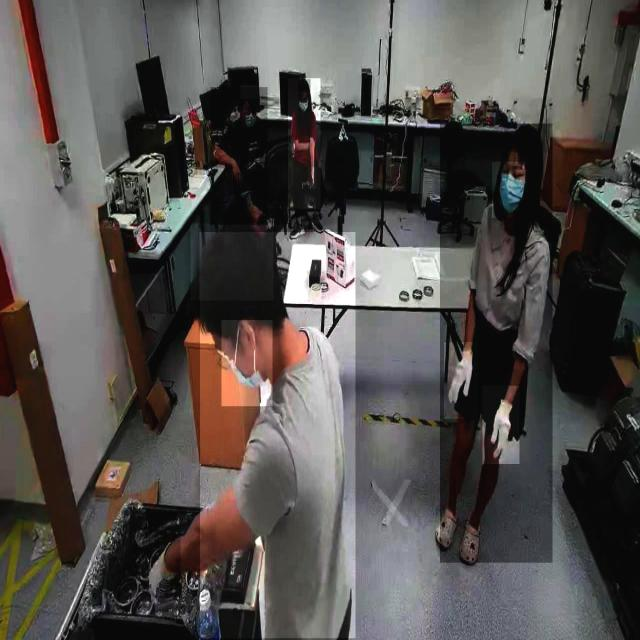face_mask: (222, 320, 272, 406), (492, 162, 528, 218), (240, 101, 254, 135), (298, 94, 309, 111)
hand_glove: (482, 386, 520, 465), (142, 526, 180, 598), (444, 342, 478, 420)
hand_noglove: (232, 157, 244, 193), (308, 167, 316, 189)
head_nohelmet: (190, 223, 274, 301), (503, 123, 545, 153), (240, 86, 258, 100), (298, 79, 310, 93)
person: (200, 232, 356, 639), (440, 124, 552, 564), (210, 87, 268, 225), (288, 78, 320, 210)
